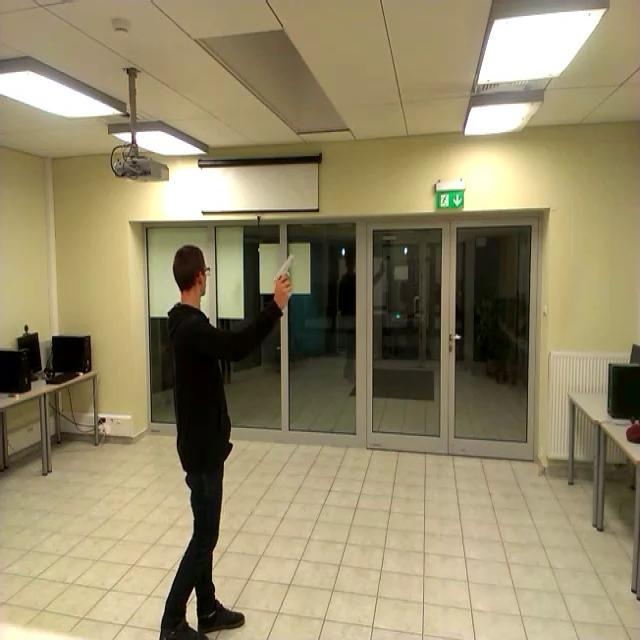Gun: (265, 244, 316, 298)
